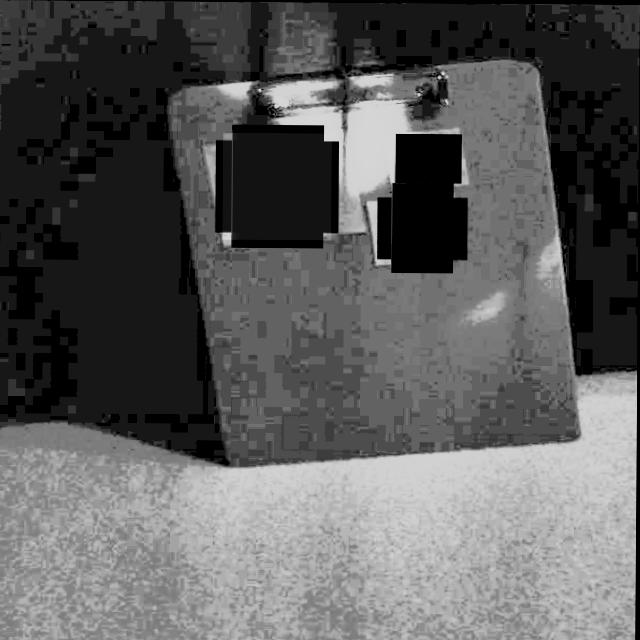qr_code: (223, 132, 332, 240), (384, 189, 461, 267), (395, 133, 462, 183)
